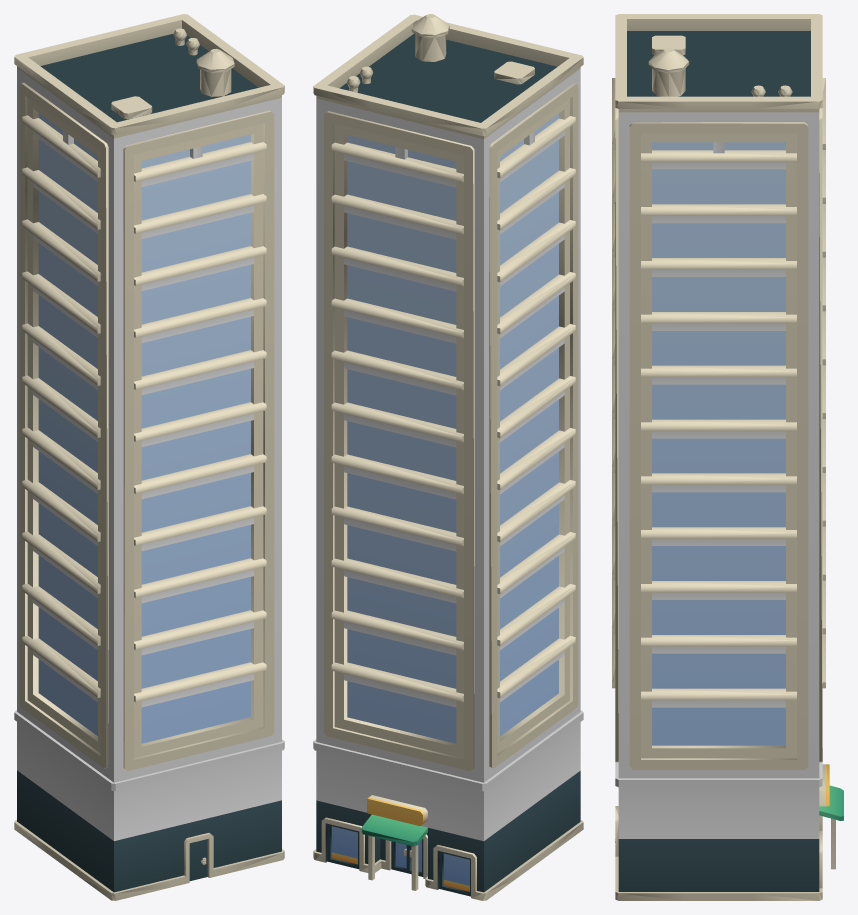
Rendered from building-skyscraper-d.glb.
3 renders of one model, left to right at view 1: azimuth 30°, elevation 25°; view 2: azimuth 150°, elevation 25°; view 3: azimuth 270°, elevation 25°, orthographic. The views are drawn at different scales.
Visible parts, largest first — view 1: building-skyscraper-d; view 2: building-skyscraper-d; view 3: building-skyscraper-d.
Part boxes in pixels (x1=…): building-skyscraper-d: x1=14, y1=14, x2=284, y2=900; building-skyscraper-d: x1=313, y1=14, x2=583, y2=900; building-skyscraper-d: x1=612, y1=14, x2=843, y2=900.
Size of the model in its own units: 12.8 by 54.7 by 13.88.
